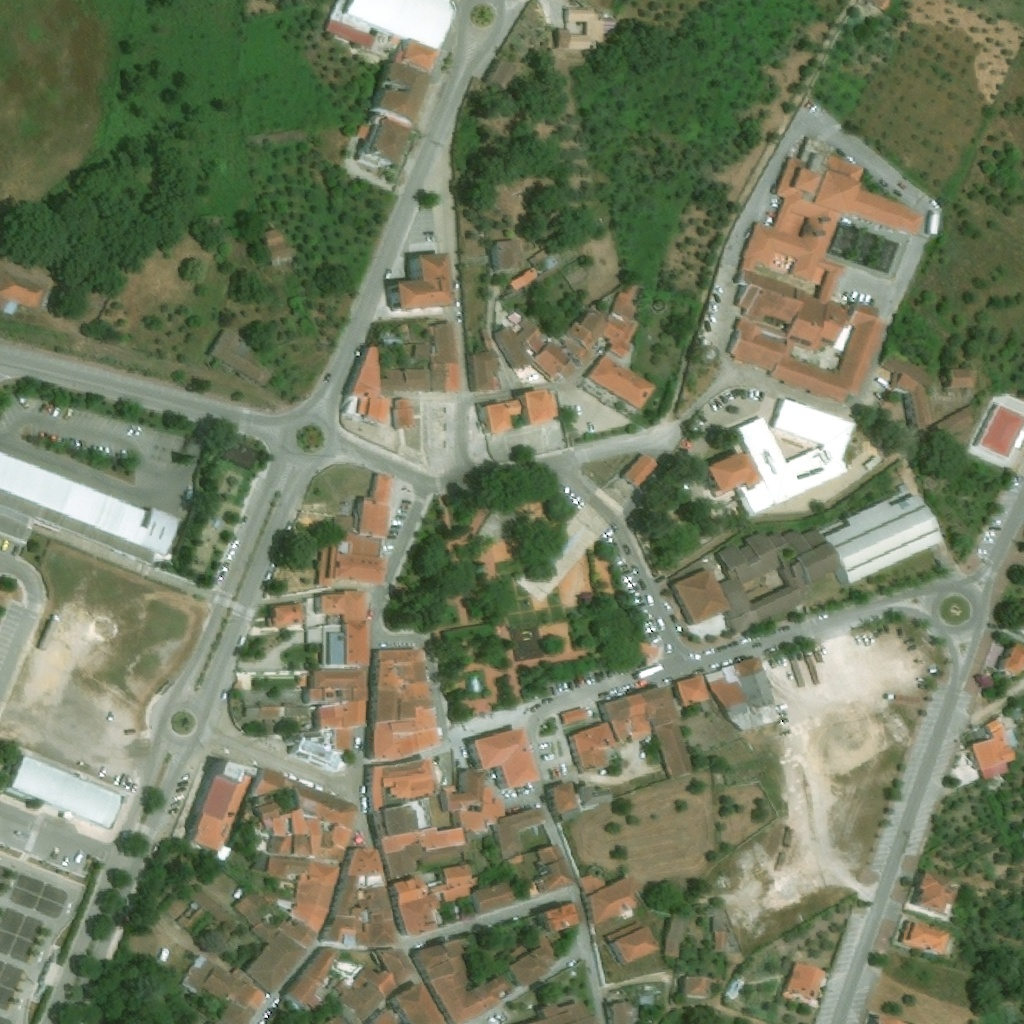0 no-damage: (725, 137, 925, 406), (666, 482, 944, 642), (0, 450, 184, 568), (364, 755, 479, 936), (230, 832, 342, 992), (707, 398, 855, 519), (597, 685, 695, 780), (410, 937, 514, 1023), (364, 650, 440, 762), (9, 755, 124, 829), (254, 784, 358, 865), (318, 848, 397, 950), (190, 761, 258, 863), (174, 951, 268, 1023), (328, 0, 454, 50), (705, 656, 780, 731), (382, 322, 460, 392), (464, 727, 539, 799), (385, 251, 456, 313), (968, 391, 1023, 471), (370, 62, 434, 127), (315, 591, 370, 665), (209, 327, 275, 388), (439, 774, 505, 835), (584, 354, 657, 409), (326, 968, 399, 1023), (880, 354, 934, 427), (282, 945, 341, 1011), (182, 761, 228, 842), (303, 670, 366, 728), (317, 537, 389, 587), (601, 279, 642, 362), (356, 113, 413, 168), (491, 807, 547, 862), (971, 719, 1018, 780), (565, 721, 618, 774), (0, 259, 50, 315), (586, 874, 643, 923), (602, 921, 660, 967), (507, 935, 556, 988), (249, 769, 295, 821), (357, 475, 394, 539), (389, 982, 445, 1023), (490, 319, 534, 371), (288, 735, 344, 773), (783, 962, 828, 1009), (914, 869, 960, 914), (474, 505, 518, 549), (933, 401, 981, 440), (898, 919, 951, 954), (305, 625, 346, 669), (704, 908, 742, 954), (570, 303, 607, 350), (560, 10, 603, 50), (347, 346, 383, 393), (374, 949, 417, 987), (531, 342, 570, 383), (515, 390, 560, 425), (480, 399, 521, 437), (620, 453, 660, 490), (534, 1002, 598, 1023), (467, 353, 502, 391), (472, 881, 512, 914), (543, 902, 583, 933), (663, 911, 688, 960), (400, 40, 439, 70), (219, 441, 258, 471), (675, 674, 710, 707), (546, 781, 578, 816), (0, 513, 33, 546), (540, 860, 573, 893), (242, 707, 308, 719), (391, 398, 416, 429), (271, 603, 303, 626), (579, 867, 606, 894), (602, 1001, 635, 1023), (683, 977, 713, 1001), (723, 972, 747, 1002), (580, 786, 614, 807), (943, 368, 975, 390), (563, 337, 588, 360), (558, 707, 585, 726), (535, 846, 560, 865), (366, 399, 389, 419), (335, 727, 353, 750), (527, 332, 545, 354), (233, 674, 251, 691), (343, 401, 362, 417), (638, 996, 655, 1006), (362, 36, 373, 48), (388, 36, 401, 46), (295, 677, 305, 686)
4 un-classified: (126, 604, 193, 686), (86, 564, 147, 621), (994, 642, 1023, 677), (0, 962, 14, 1001), (870, 1010, 909, 1023), (164, 435, 181, 464), (171, 438, 188, 466), (152, 433, 168, 461), (147, 431, 161, 458), (372, 1009, 398, 1023), (864, 0, 891, 12), (325, 1014, 345, 1023)
